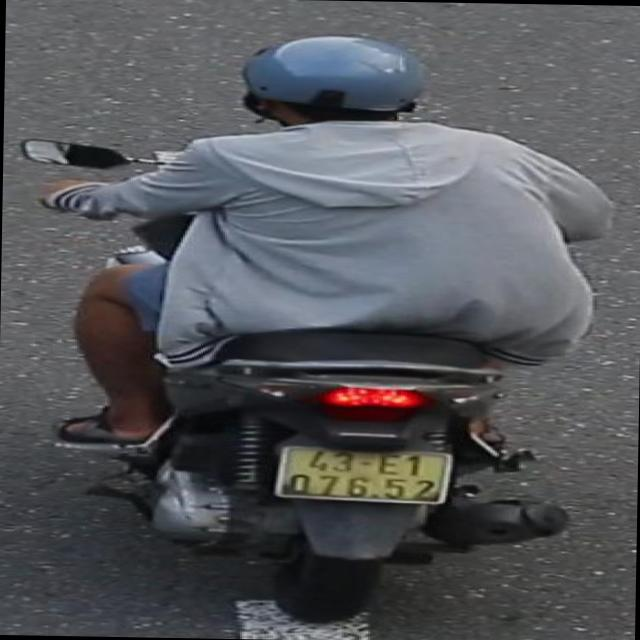LP: (266, 441, 459, 509)
helmet: (233, 28, 444, 148)
